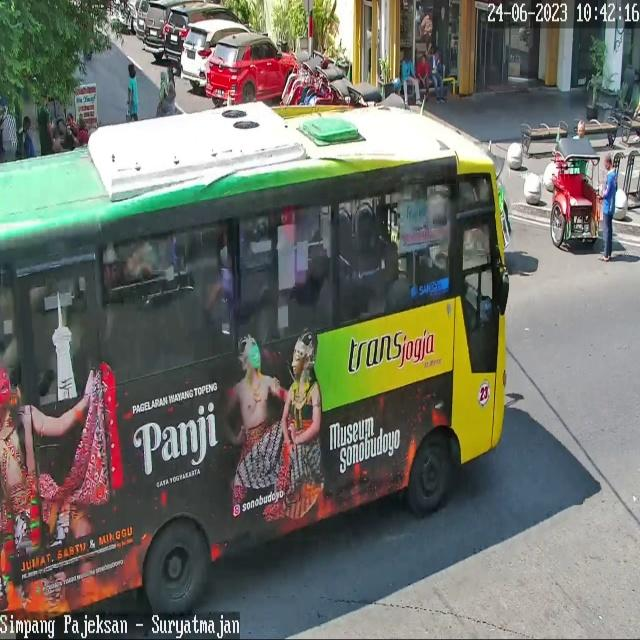car: (0, 100, 504, 640)
motorcycle: (206, 34, 300, 102), (180, 21, 252, 88), (163, 3, 246, 60), (143, 0, 169, 53)
